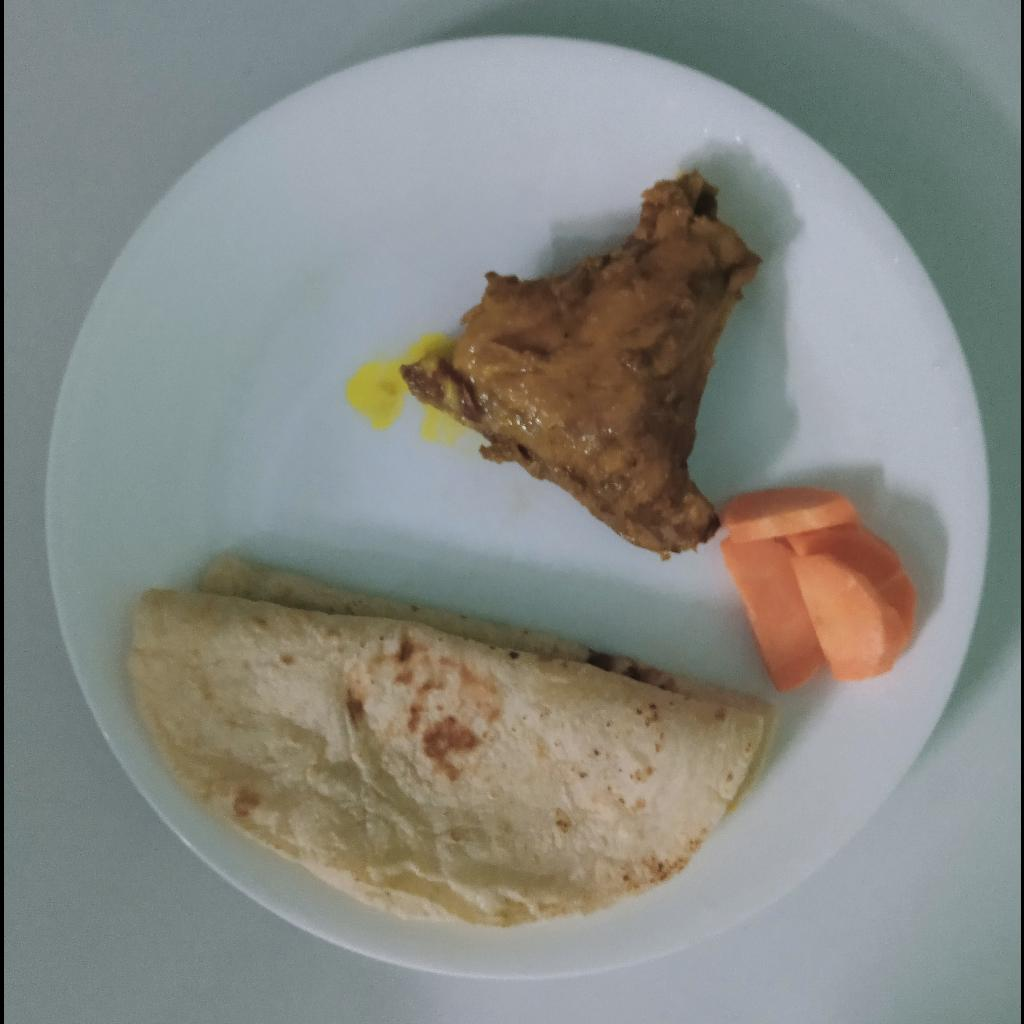carrot: (719, 488, 917, 691)
chicken: (397, 173, 759, 555)
ruti: (125, 555, 783, 927)
